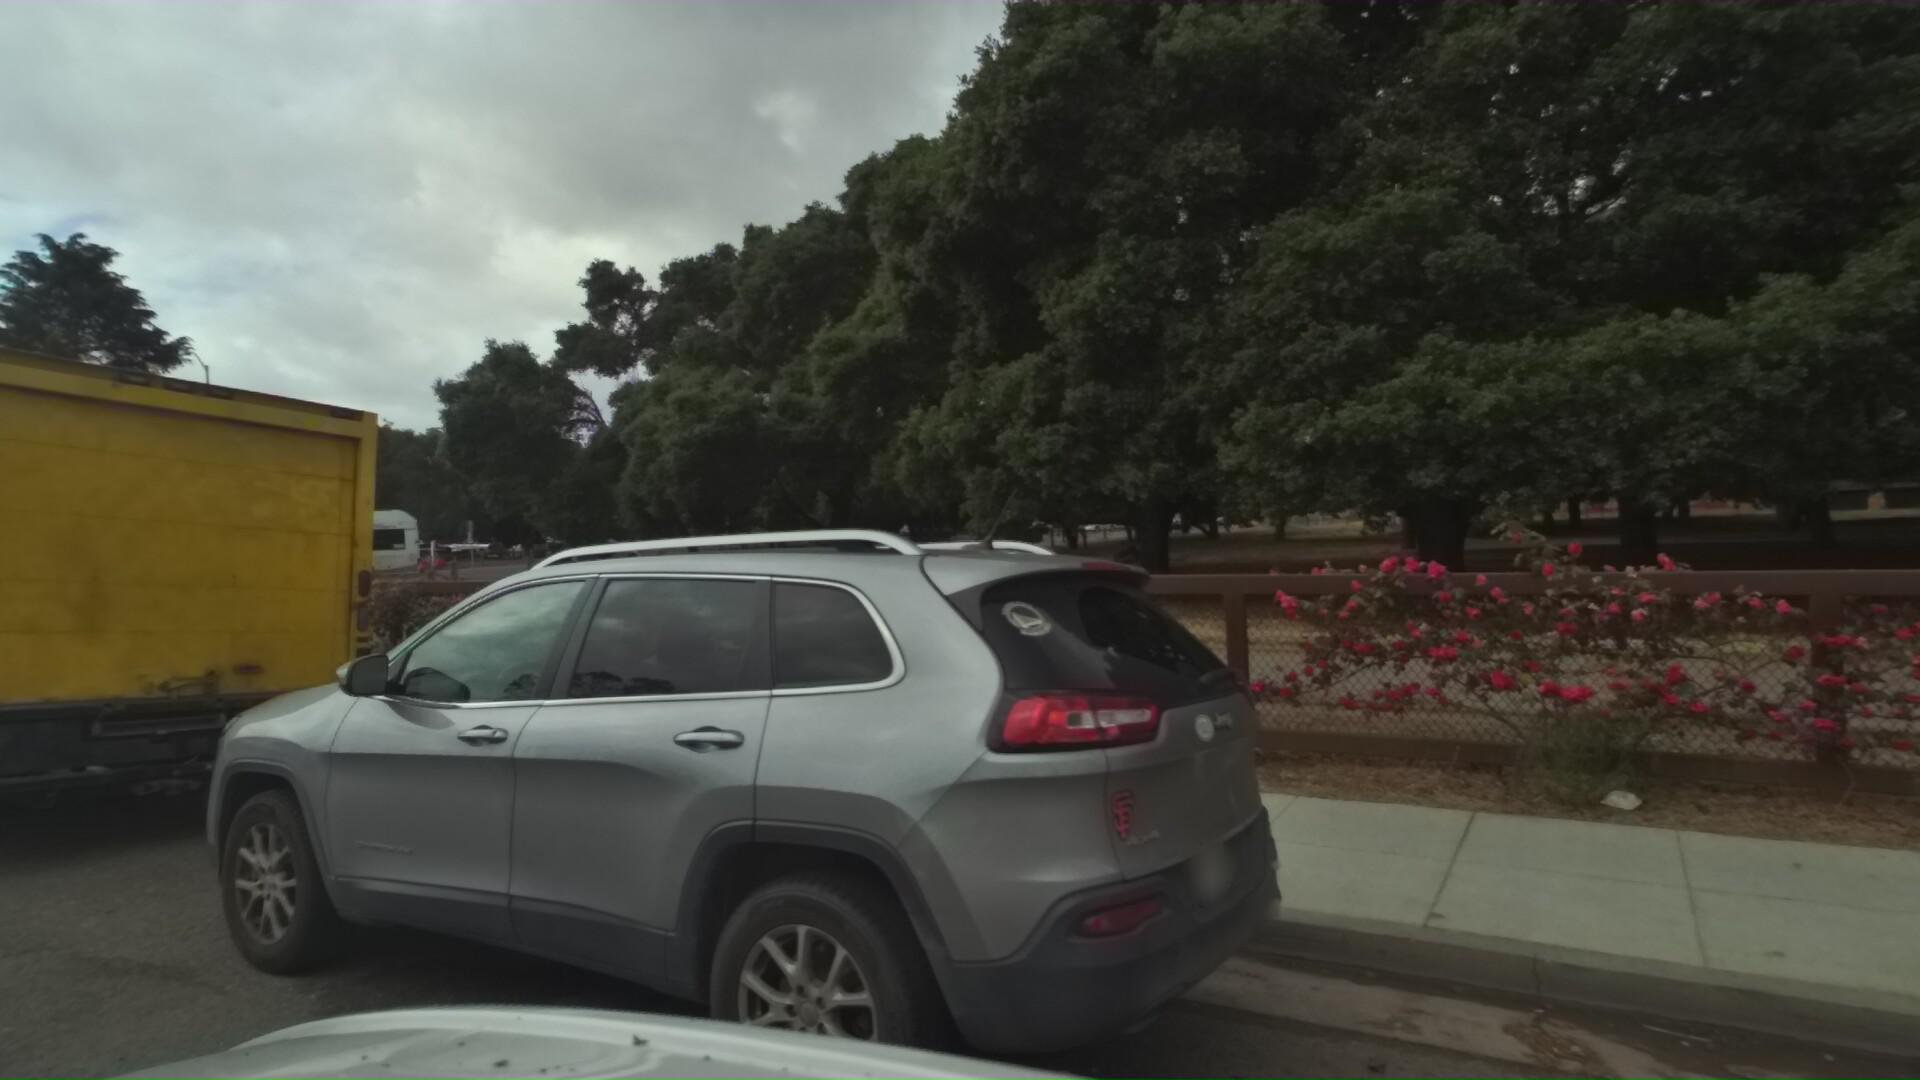car: (112, 459, 1393, 1080), (566, 529, 659, 562)
truck: (0, 273, 451, 951)
